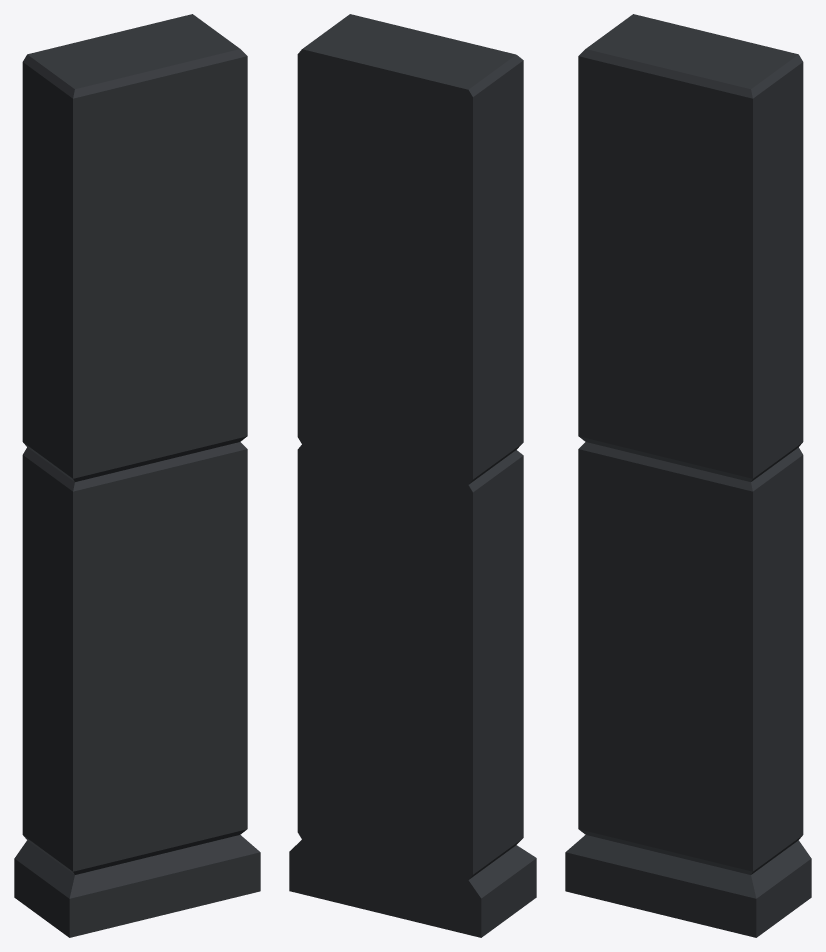
File: Pillar_Interior_03.glb
3 views of the same model, side by side, from view 1: azimuth 30°, elevation 25°; view 2: azimuth 150°, elevation 25°; view 3: azimuth 330°, elevation 25° (orthographic).
Visible parts, largest first — view 1: SM_Env_Pillar_Interior_03; view 2: SM_Env_Pillar_Interior_03; view 3: SM_Env_Pillar_Interior_03.
Part boxes in pixels (<box>): SM_Env_Pillar_Interior_03: <box>14,14,260,937</box>; SM_Env_Pillar_Interior_03: <box>289,14,536,937</box>; SM_Env_Pillar_Interior_03: <box>565,14,811,937</box>.
Size of the model in its own units: 0.7137 by 3 by 0.3568.
1 material, 1 textured.
